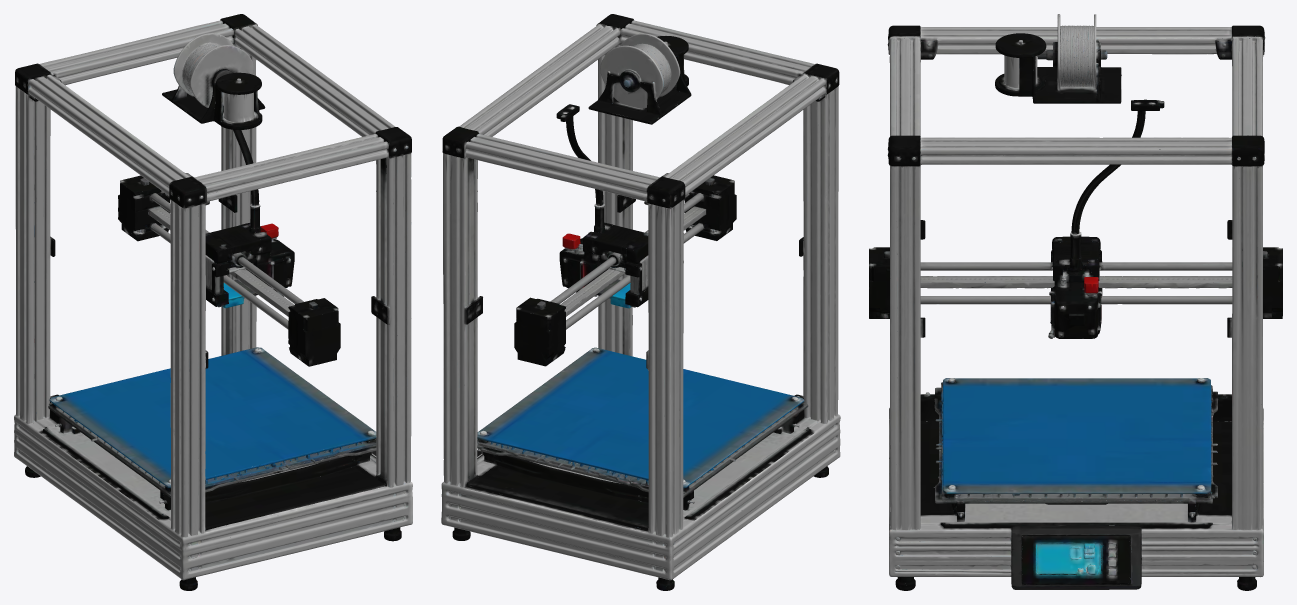
Rendered from printer3d.glb.
3 views of the same model, side by side, from view 1: azimuth 30°, elevation 25°; view 2: azimuth 150°, elevation 25°; view 3: azimuth 270°, elevation 25° (orthographic). The views are drawn at different scales.
Visible parts, largest first — view 1: tripo_node_d0b419ed-3d12-4f5a-ac0c-26d508eb1738; view 2: tripo_node_d0b419ed-3d12-4f5a-ac0c-26d508eb1738; view 3: tripo_node_d0b419ed-3d12-4f5a-ac0c-26d508eb1738.
Boxes of the visible parts, x1,y1,x2,y2 form: tripo_node_d0b419ed-3d12-4f5a-ac0c-26d508eb1738: [14, 14, 412, 590]; tripo_node_d0b419ed-3d12-4f5a-ac0c-26d508eb1738: [441, 14, 840, 590]; tripo_node_d0b419ed-3d12-4f5a-ac0c-26d508eb1738: [869, 14, 1282, 590].
Size of the model in its own units: 0.5797 by 0.9814 by 0.7146.
1 material, 1 textured.
